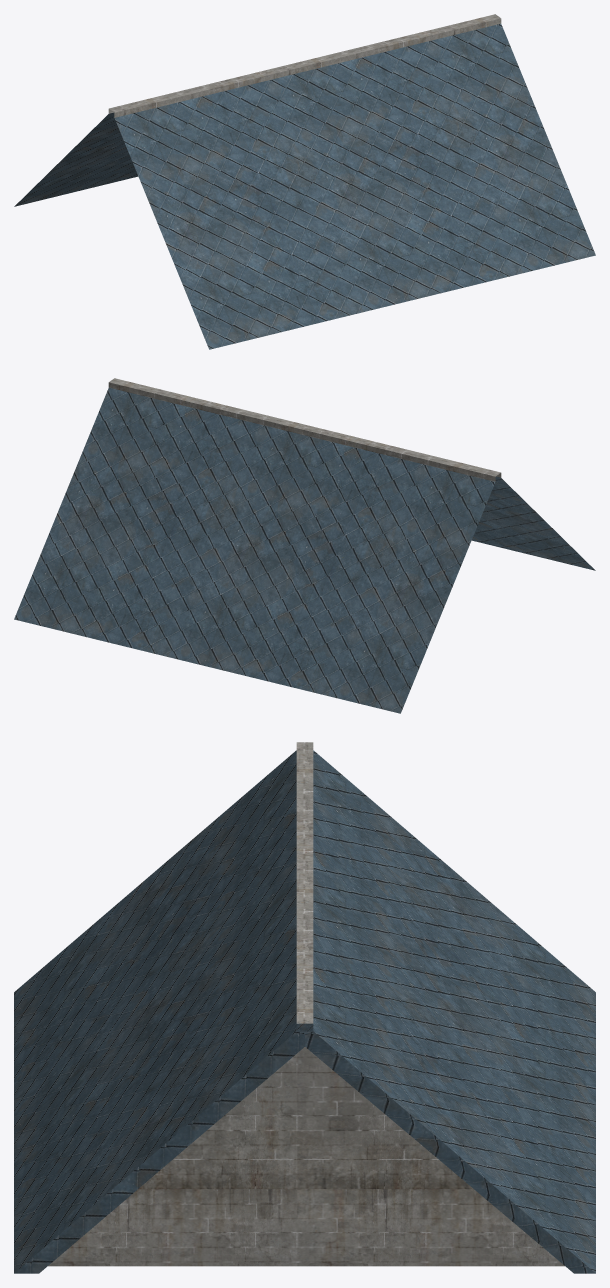
The model's file is bg_lut_lucastle_churchroof02_sm_ksh.FBX.
3 renders of one model, top to bottom at view 1: azimuth 30°, elevation 25°; view 2: azimuth 150°, elevation 25°; view 3: azimuth 270°, elevation 25°, orthographic. The views are drawn at different scales.
Parts seen in each view (by area): view 1: bg_lut_lucastle_churchroof02_sm_ksh; view 2: bg_lut_lucastle_churchroof02_sm_ksh; view 3: bg_lut_lucastle_churchroof02_sm_ksh.
Part boxes in pixels (box(x1,y1,x2,y2)): bg_lut_lucastle_churchroof02_sm_ksh: box(14, 14, 595, 349); bg_lut_lucastle_churchroof02_sm_ksh: box(14, 378, 595, 713); bg_lut_lucastle_churchroof02_sm_ksh: box(14, 742, 595, 1273).
Bounding box in the file's own units: 912 × 378 × 798.
